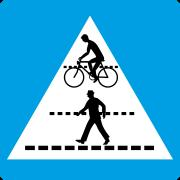Cycle Crossing: (10, 87, 172, 178)
